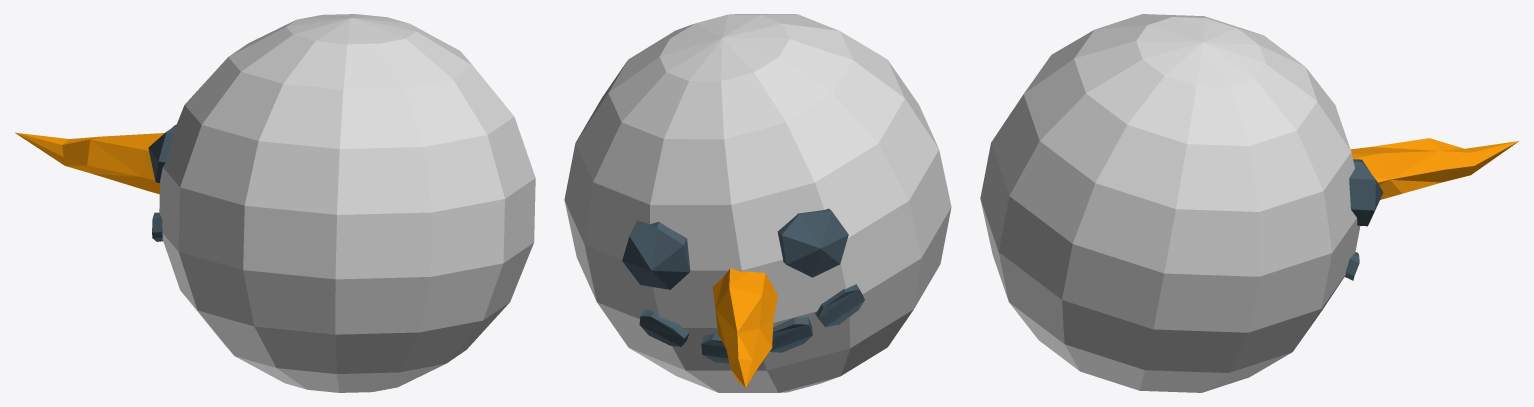
The model's file is head.glb.
The picture shows the model from 3 angles, left to right: view 1: azimuth 30°, elevation 25°; view 2: azimuth 150°, elevation 25°; view 3: azimuth 270°, elevation 25°; orthographic projection.
Parts seen in each view (by area): view 1: group549450731, group1479642564, group1611788819; view 2: group549450731, group1479642564, group168929574, group1611788819, group855854399, group1018939212, group23617698, group785173302; view 3: group549450731, group1479642564, group168929574.
Part boxes in pixels (x1=…): group549450731: x1=159, y1=14, x2=535, y2=392; group1479642564: x1=15, y1=132, x2=164, y2=194; group1611788819: x1=148, y1=124, x2=176, y2=182; group549450731: x1=564, y1=14, x2=951, y2=392; group1479642564: x1=712, y1=268, x2=777, y2=387; group168929574: x1=622, y1=220, x2=690, y2=289; group1611788819: x1=777, y1=208, x2=848, y2=277; group855854399: x1=815, y1=284, x2=864, y2=327; group1018939212: x1=769, y1=317, x2=812, y2=352; group23617698: x1=639, y1=308, x2=689, y2=346; group785173302: x1=701, y1=333, x2=729, y2=363; group549450731: x1=980, y1=14, x2=1360, y2=392; group1479642564: x1=1350, y1=138, x2=1518, y2=199; group168929574: x1=1349, y1=159, x2=1383, y2=226.
Bounding box in the file's own units: 0.3191 × 0.3165 × 0.4489.
